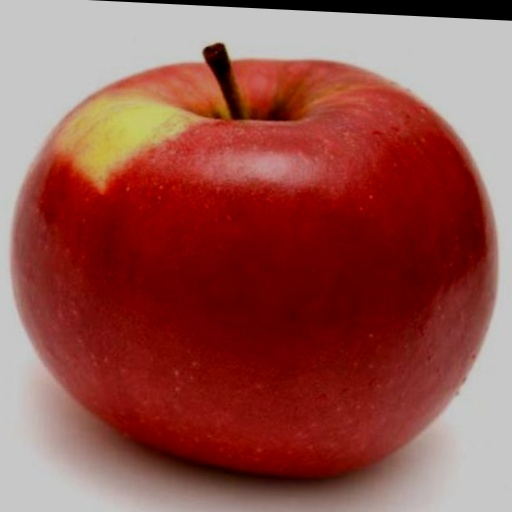fruit: (12, 61, 496, 476)
